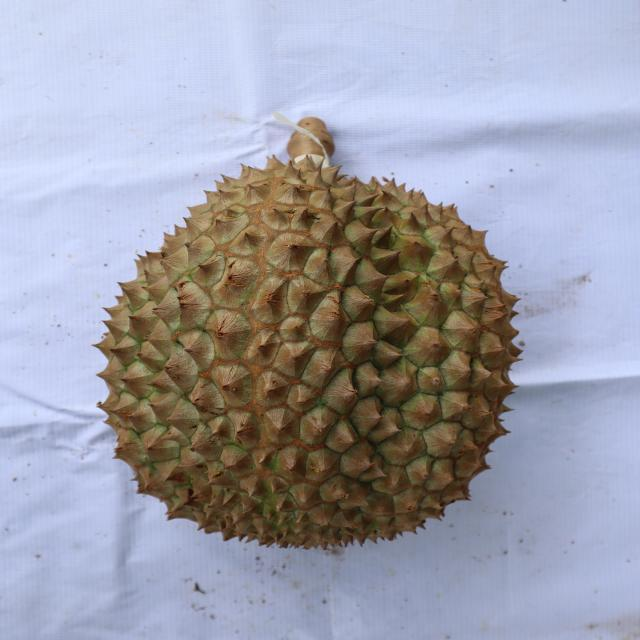mature: (93, 158, 530, 553)
